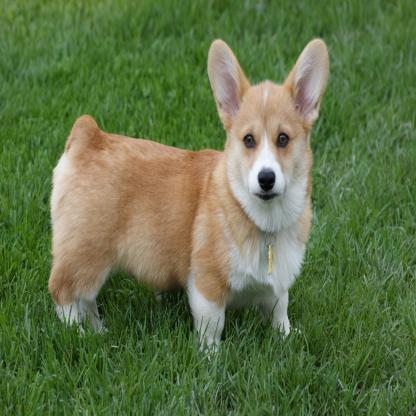Korgi: (49, 33, 334, 359)
